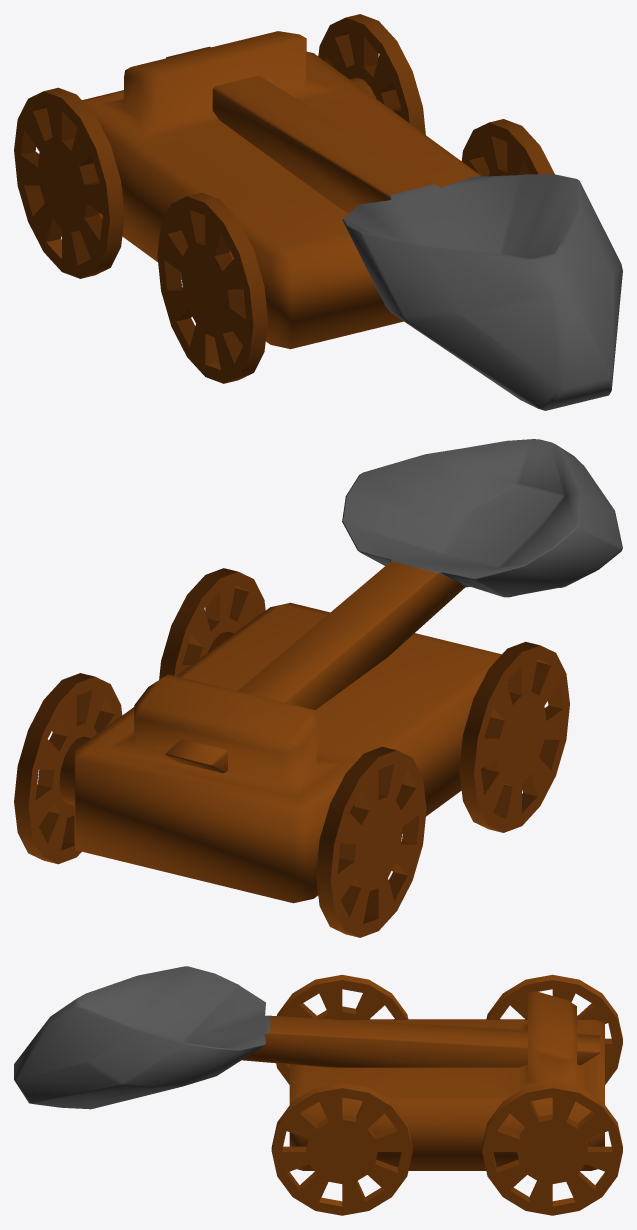
Rendered from katapult.fbx.
The picture shows the model from 3 angles, top to bottom: view 1: azimuth 30°, elevation 25°; view 2: azimuth 150°, elevation 25°; view 3: azimuth 270°, elevation 25°; orthographic projection. The views are drawn at different scales.
Parts seen in each view (by area): view 1: Cube.003, Cube.002, Circle.001; view 2: Cube.002, Circle.001, Cube.003; view 3: Cube.003, Circle.001, Cube.002.
Part boxes in pixels (bbox=[...]): Cube.003: bbox=[166, 46, 622, 410]; Cube.002: bbox=[76, 31, 481, 349]; Circle.001: bbox=[14, 14, 554, 383]; Cube.002: bbox=[74, 602, 507, 903]; Circle.001: bbox=[14, 568, 569, 937]; Cube.003: bbox=[165, 439, 622, 773]; Cube.003: bbox=[14, 966, 600, 1109]; Circle.001: bbox=[271, 974, 622, 1215]; Cube.002: bbox=[289, 991, 604, 1170].
Bounding box in the file's own units: 322 × 209 × 732.
